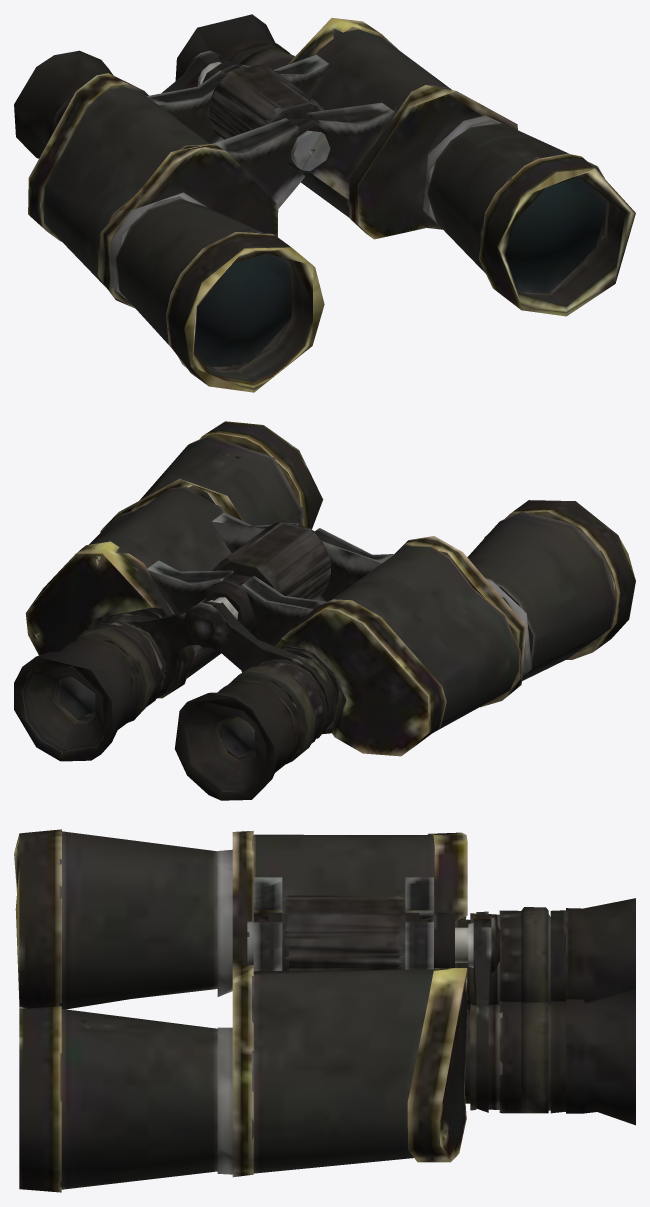
File: binoculars.glb
3 views of the same model, one above another, from view 1: azimuth 30°, elevation 25°; view 2: azimuth 150°, elevation 25°; view 3: azimuth 270°, elevation 25° (orthographic). The views are drawn at different scales.
Visible parts, largest first — view 1: vintage_binocular_right_prism, vintage_binocular_left_prism, vintage_binocular_right_lens, vintage_binocular_focus, vintage_binocular_left_lens, vintage_binocular_middle; view 2: vintage_binocular_right_prism, vintage_binocular_left_prism, vintage_binocular_left_lens, vintage_binocular_right_lens, vintage_binocular_focus, vintage_binocular_diopter, vintage_binocular_eye_relief, vintage_binocular_middle; view 3: vintage_binocular_left_prism, vintage_binocular_right_prism, vintage_binocular_left_lens, vintage_binocular_right_lens, vintage_binocular_focus, vintage_binocular_diopter, vintage_binocular_middle, vintage_binocular_eye_relief.
Boxes of the visible parts, bbox=[...] form: vintage_binocular_right_prism: bbox=[28, 70, 324, 392]; vintage_binocular_left_prism: bbox=[226, 18, 635, 316]; vintage_binocular_right_lens: bbox=[14, 50, 222, 158]; vintage_binocular_focus: bbox=[209, 65, 324, 172]; vintage_binocular_left_lens: bbox=[175, 14, 294, 80]; vintage_binocular_middle: bbox=[202, 61, 330, 171]; vintage_binocular_right_prism: bbox=[230, 500, 635, 756]; vintage_binocular_left_prism: bbox=[25, 421, 323, 698]; vintage_binocular_left_lens: bbox=[14, 598, 206, 761]; vintage_binocular_right_lens: bbox=[175, 601, 336, 800]; vintage_binocular_focus: bbox=[213, 522, 330, 599]; vintage_binocular_diopter: bbox=[228, 660, 324, 764]; vintage_binocular_eye_relief: bbox=[184, 597, 238, 647]; vintage_binocular_middle: bbox=[202, 528, 313, 629]; vintage_binocular_left_prism: bbox=[19, 916, 467, 1192]; vintage_binocular_right_prism: bbox=[14, 829, 467, 1009]; vintage_binocular_left_lens: bbox=[465, 920, 635, 1125]; vintage_binocular_right_lens: bbox=[457, 898, 635, 1010]; vintage_binocular_focus: bbox=[282, 895, 405, 970]; vintage_binocular_diopter: bbox=[499, 907, 548, 1002]; vintage_binocular_middle: bbox=[247, 912, 454, 968]; vintage_binocular_eye_relief: bbox=[455, 917, 499, 973].
Bounding box in the file's own units: 0.1934 × 0.0684 × 0.199.
1 material, 1 textured.
